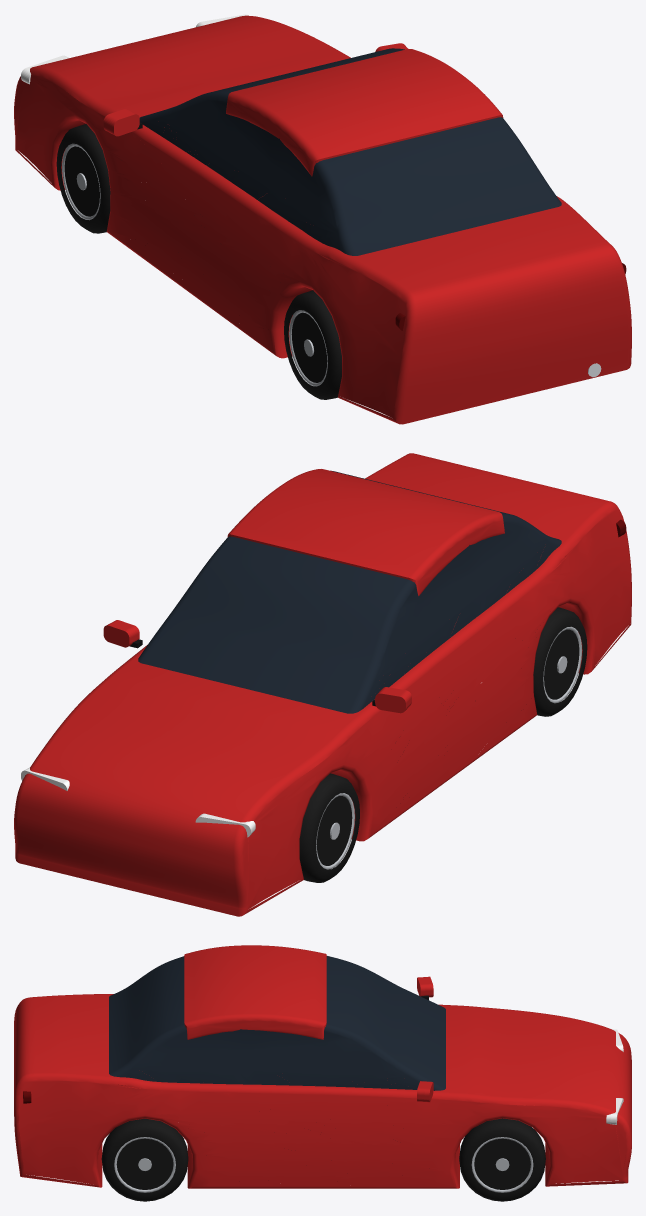
The model's file is sedan.glb.
3 renders of one model, top to bottom at view 1: azimuth 30°, elevation 25°; view 2: azimuth 150°, elevation 25°; view 3: azimuth 270°, elevation 25°, orthographic. The views are drawn at different scales.
Visible parts, largest first — view 1: Body, Glass, Tire_RL, Tire_FL, Rim_FL, Rim_RL; view 2: Body, Glass, Tire_FL, Tire_RL, Headlights; view 3: Body, Glass, Tire_FR, Tire_RR, Rim_FR, Rim_RR.
Boxes of the visible parts, box(x1,y1,x2,y2) form: Body: box(14, 15, 631, 424); Glass: box(139, 48, 561, 255); Tire_RL: box(284, 290, 341, 399); Tire_FL: box(56, 124, 110, 233); Rim_FL: box(62, 143, 100, 220); Rim_RL: box(289, 310, 327, 386); Body: box(14, 453, 631, 916); Glass: box(138, 470, 561, 713); Tire_FL: box(299, 773, 359, 882); Tire_RL: box(533, 607, 587, 716); Headlights: box(21, 767, 255, 837); Body: box(14, 945, 631, 1188); Glass: box(109, 956, 445, 1090); Tire_FR: box(459, 1118, 545, 1201); Tire_RR: box(101, 1118, 188, 1201); Rim_FR: box(471, 1137, 533, 1192); Rim_RR: box(114, 1137, 175, 1192).
Bounding box in the file's own units: 2.11 × 1.49 × 4.75.
